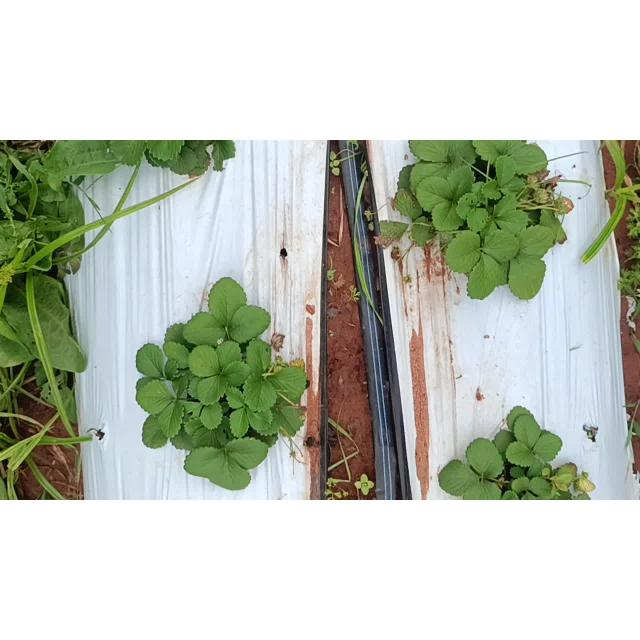no-maduro: (575, 478, 597, 494), (289, 358, 305, 370)
